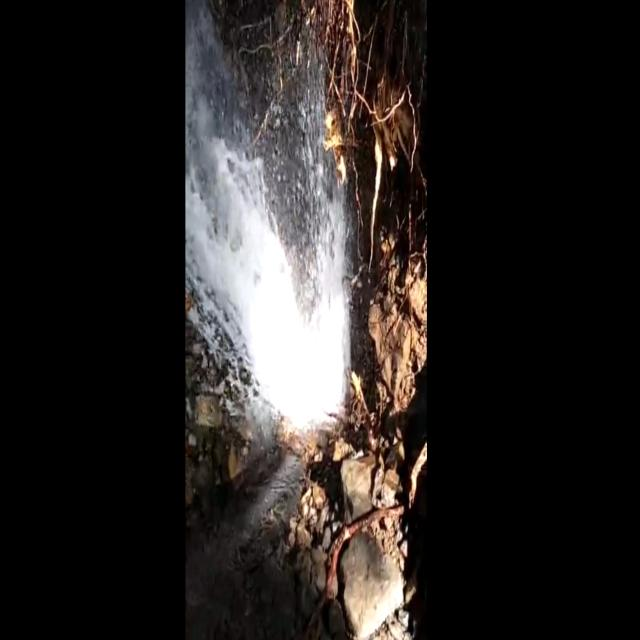leak: (186, 2, 349, 427)
